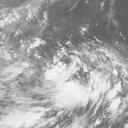cyclone: (34, 45, 96, 110)
